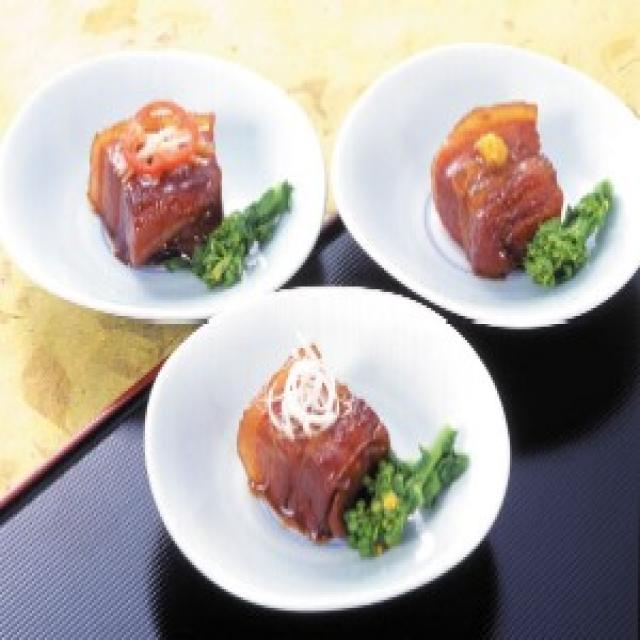猪肉菜式: (0, 0, 640, 611)
